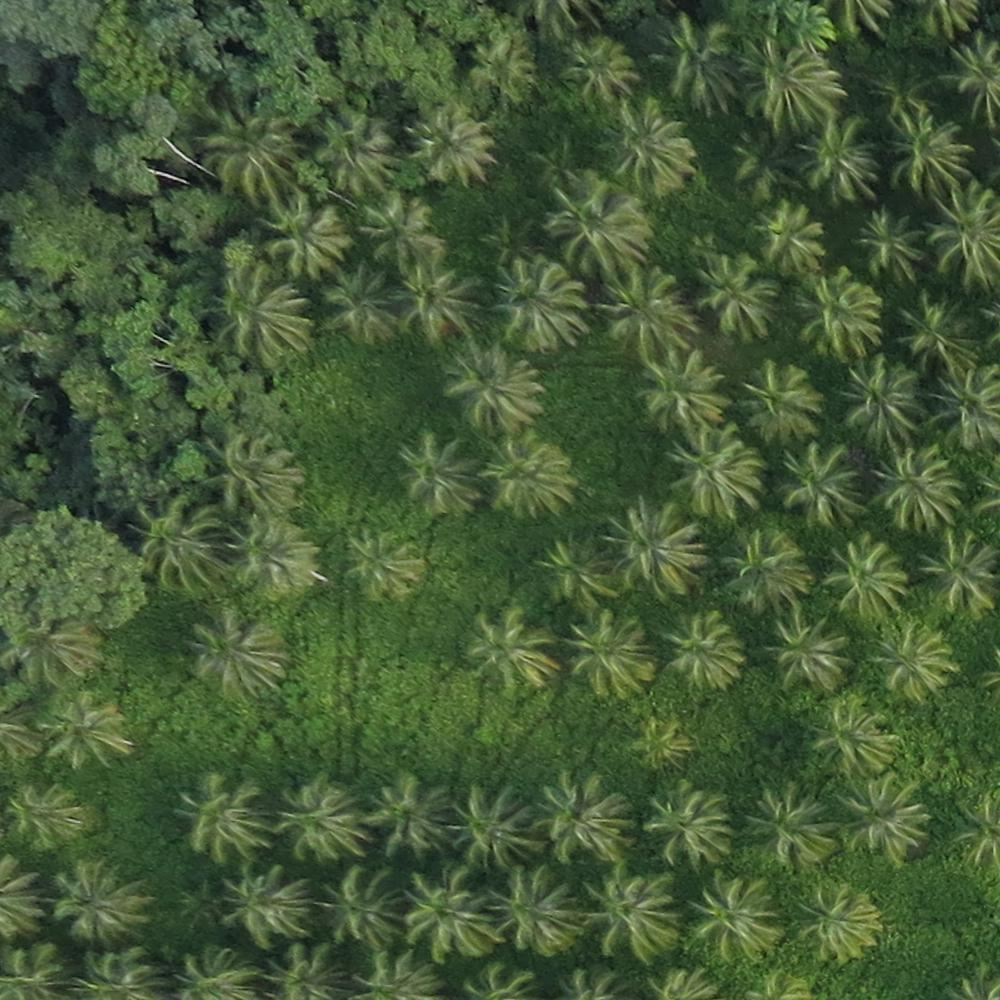Palm: (540, 169, 649, 274), (603, 504, 707, 595), (400, 866, 498, 958), (580, 872, 679, 963), (172, 769, 275, 856), (534, 773, 634, 862), (484, 433, 581, 524), (628, 350, 725, 441), (272, 776, 370, 866), (739, 39, 841, 125), (488, 257, 583, 348), (134, 499, 227, 591), (598, 264, 692, 355), (684, 874, 779, 964), (492, 867, 585, 958), (184, 612, 285, 695), (687, 251, 781, 340), (446, 785, 548, 867), (803, 699, 903, 782), (603, 102, 694, 193), (839, 775, 933, 863), (666, 426, 760, 514), (651, 17, 740, 109), (881, 105, 970, 197), (220, 861, 315, 947), (737, 782, 833, 867), (448, 345, 539, 433), (215, 275, 307, 361), (641, 784, 735, 868), (790, 269, 879, 357), (223, 515, 315, 600), (213, 436, 305, 521), (358, 775, 452, 857), (922, 184, 1000, 282), (317, 868, 405, 954), (50, 862, 147, 940), (205, 110, 295, 194), (719, 529, 811, 611), (256, 192, 345, 275), (869, 622, 962, 701), (394, 259, 480, 344), (799, 117, 882, 205), (914, 533, 998, 619), (767, 613, 855, 695), (464, 610, 553, 689), (871, 448, 961, 525), (407, 111, 497, 188), (736, 361, 819, 444), (567, 619, 656, 694), (403, 435, 485, 516), (779, 445, 858, 529), (3, 776, 88, 854), (820, 540, 905, 618), (794, 884, 880, 961), (895, 288, 978, 367), (848, 359, 928, 440), (44, 696, 129, 771), (662, 612, 742, 689), (356, 192, 440, 265), (537, 532, 615, 609), (320, 267, 400, 342), (347, 530, 427, 602), (748, 208, 825, 278), (567, 34, 636, 100), (860, 214, 927, 278)
